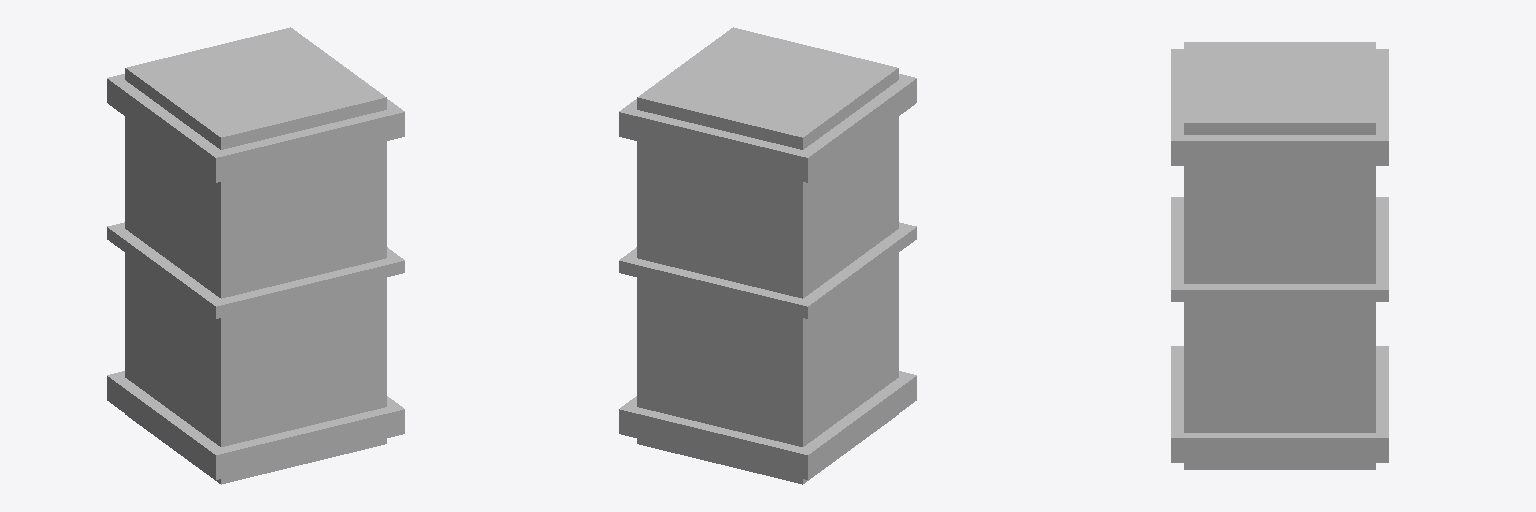
The model's file is radioactive_waste_barrel.obj.
3 views of the same model, side by side, from view 1: azimuth 30°, elevation 25°; view 2: azimuth 150°, elevation 25°; view 3: azimuth 270°, elevation 25° (orthographic).
Visible parts, largest first — view 1: Barrel_Body, cube; view 2: Barrel_Body, cube; view 3: Barrel_Body, cube.
Part boxes in pixels (bbox=[...]): Barrel_Body: bbox=[125, 27, 386, 484]; cube: bbox=[107, 74, 404, 479]; Barrel_Body: bbox=[637, 27, 898, 484]; cube: bbox=[619, 74, 916, 479]; Barrel_Body: bbox=[1184, 42, 1375, 469]; cube: bbox=[1171, 49, 1388, 462].
Size of the model in its own units: 1 by 1.75 by 1.